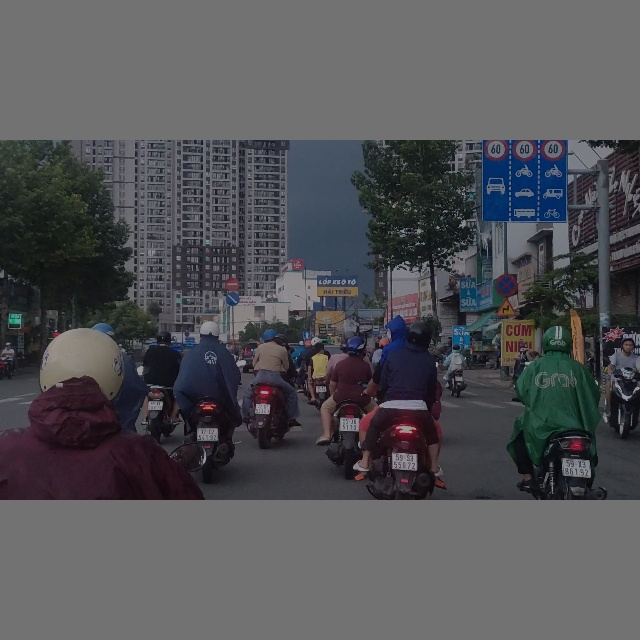I.407a: (303, 330, 312, 339)
I.434a: (372, 324, 380, 335)
P.102: (226, 277, 240, 291)
P.127*60: (540, 140, 566, 161), (513, 140, 537, 161), (485, 140, 508, 160)
P.130: (496, 274, 518, 296)
R.302a: (226, 292, 240, 306)
R.415a: (483, 162, 567, 222)
W.202b: (496, 297, 517, 315)
